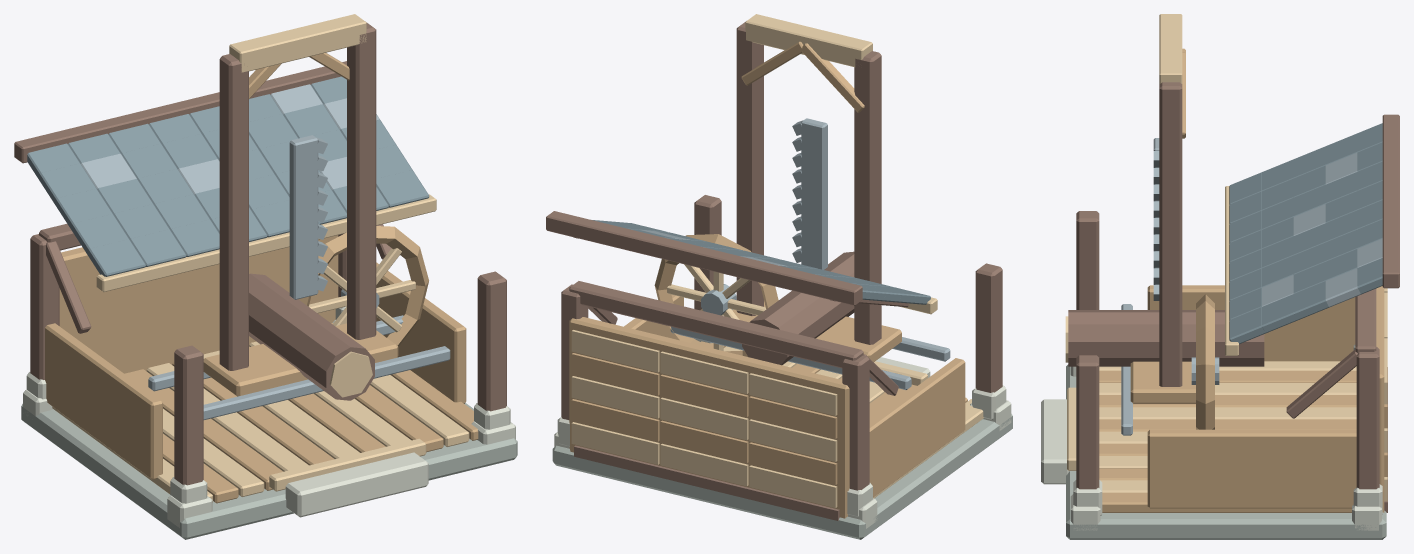
File: sawmill.fbx
3 views of the same model, side by side, from view 1: azimuth 30°, elevation 25°; view 2: azimuth 150°, elevation 25°; view 3: azimuth 270°, elevation 25° (orthographic). The views are drawn at different scales.
Parts seen in each view (by area): view 1: sawmill_mesh, Saw, Wheel; view 2: sawmill_mesh, Saw, Wheel; view 3: sawmill_mesh, Wheel, Saw.
Part boxes in pixels (bbox=[...]): sawmill_mesh: bbox=[14, 14, 517, 539]; Saw: bbox=[289, 135, 327, 299]; Wheel: bbox=[298, 226, 428, 346]; sawmill_mesh: bbox=[546, 14, 1012, 539]; Saw: bbox=[792, 118, 827, 269]; Wheel: bbox=[654, 234, 778, 356]; sawmill_mesh: bbox=[1041, 14, 1399, 539]; Wheel: bbox=[1191, 294, 1219, 429]; Saw: bbox=[1153, 138, 1159, 300].
Size of the model in its own units: 3.28 by 4 by 3.11.
